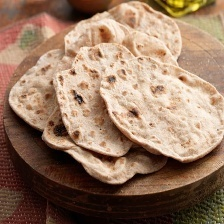roti: (6, 1, 224, 189)
